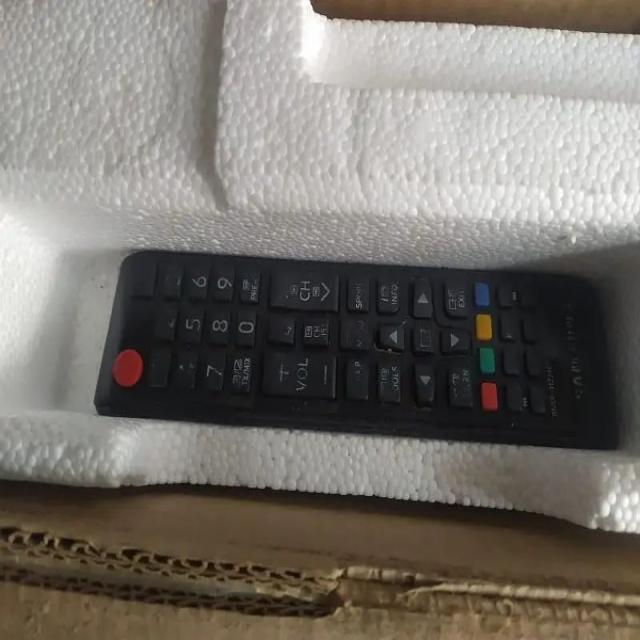electronic: (93, 248, 618, 450)
